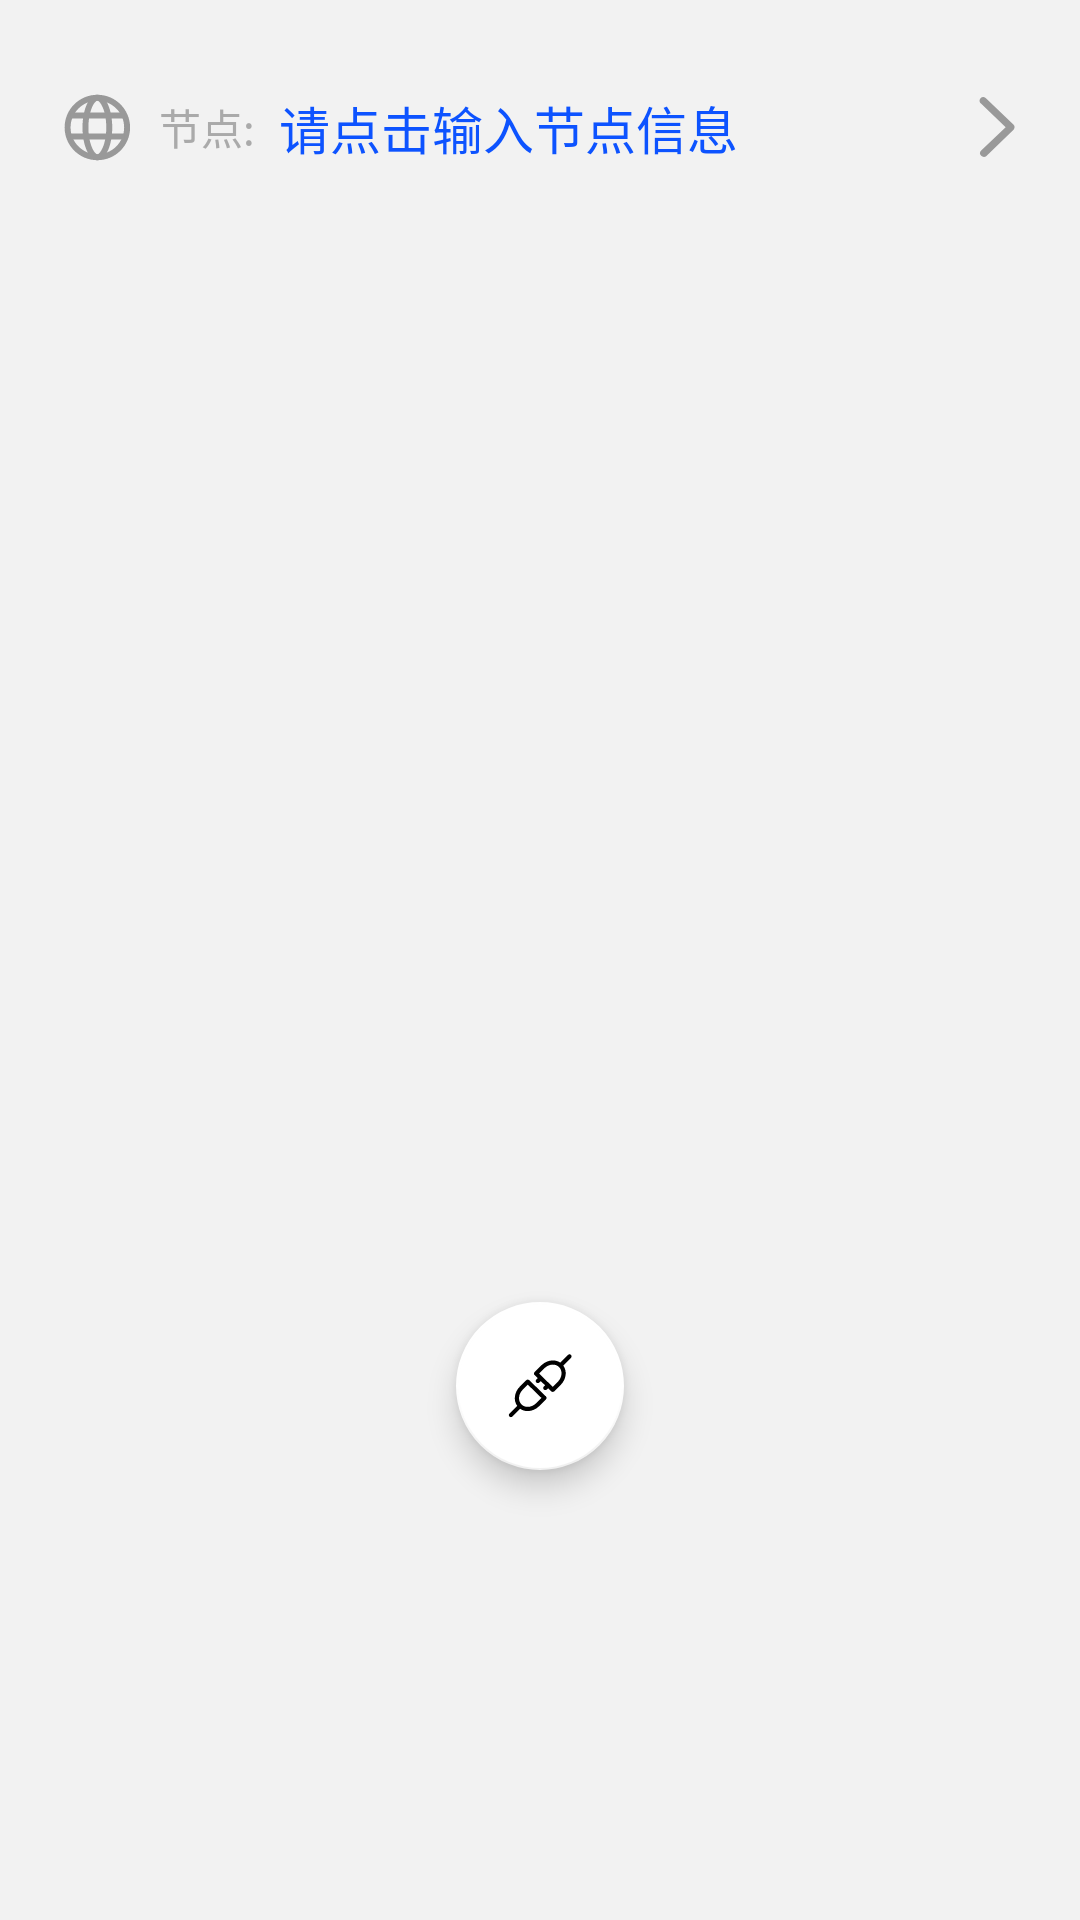

Icons on this 1080w x 1920h Android screen, each with its box as bbox(x1, y1, x2, y2):
home internet: bbox(64, 94, 130, 161)
home stop: bbox(456, 1302, 624, 1470)
more: bbox(979, 97, 1015, 157)
